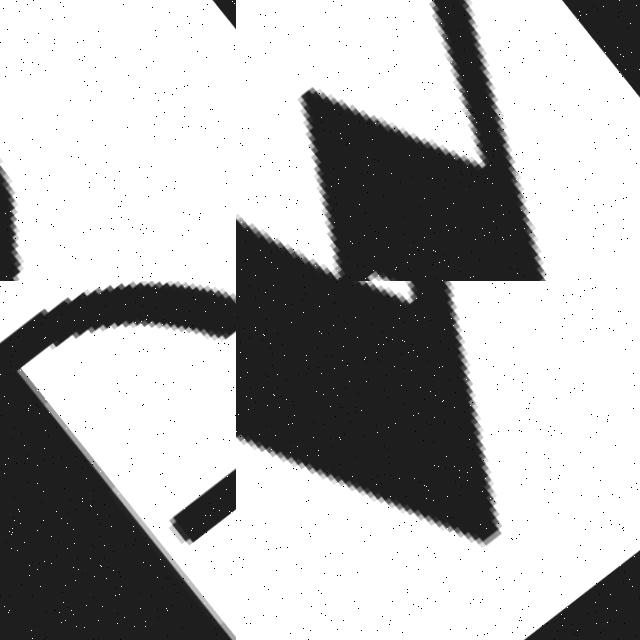5: (0, 0, 236, 281)
G: (0, 281, 236, 640)
V: (236, 281, 640, 640)
W: (236, 0, 640, 281)
